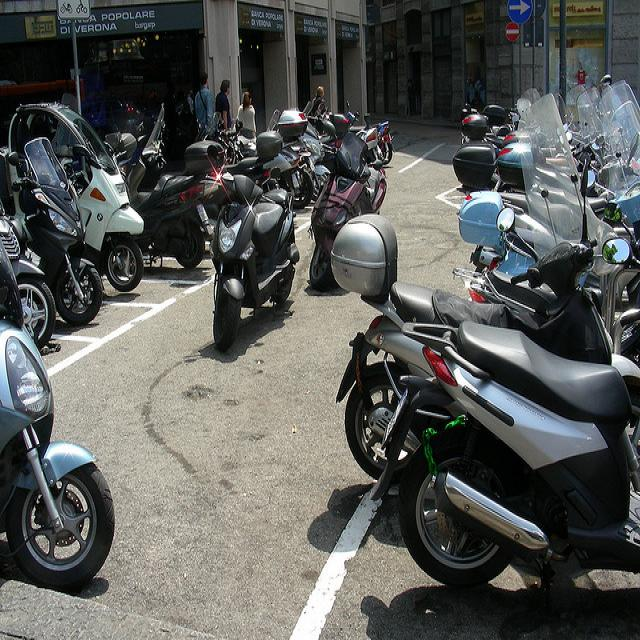motor: (333, 149, 640, 475), (368, 318, 640, 604), (1, 238, 118, 582), (1, 94, 149, 295), (105, 108, 211, 273), (9, 137, 102, 325), (210, 176, 301, 352), (310, 120, 389, 288), (179, 109, 272, 239), (0, 196, 58, 354), (219, 118, 313, 208), (395, 100, 514, 145), (452, 141, 534, 194), (322, 101, 395, 141), (300, 118, 331, 199)
